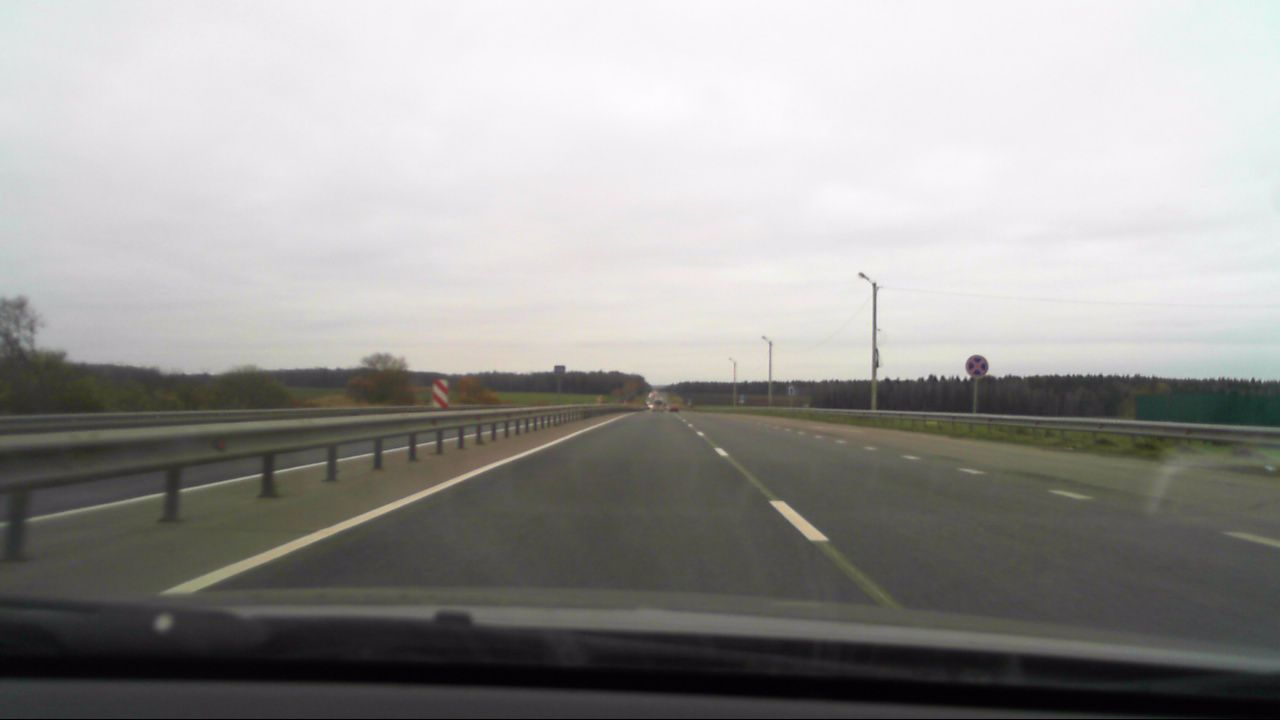No Parking: (966, 354, 988, 378)
